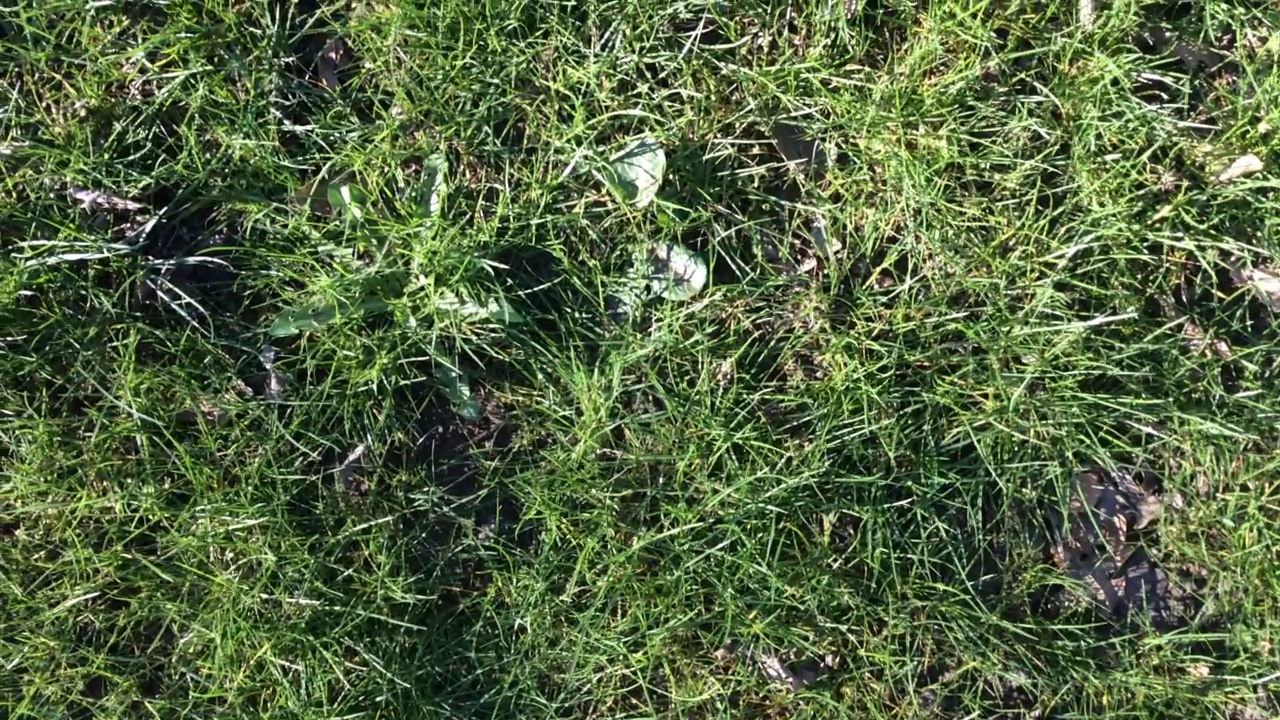rumex: (606, 133, 666, 204), (631, 248, 707, 300)
